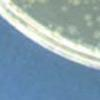white: (55, 24, 67, 34), (66, 24, 79, 32), (93, 29, 100, 42), (60, 4, 69, 14), (85, 20, 95, 29), (68, 31, 82, 37), (83, 13, 92, 22), (71, 37, 81, 45), (69, 0, 80, 7), (52, 31, 61, 39), (36, 0, 50, 5), (20, 3, 28, 11), (91, 5, 100, 12), (47, 22, 54, 30), (82, 0, 90, 6), (25, 0, 36, 4), (90, 0, 98, 5), (16, 8, 22, 14), (26, 4, 33, 9), (65, 0, 73, 4), (96, 15, 100, 22), (97, 42, 100, 49)
